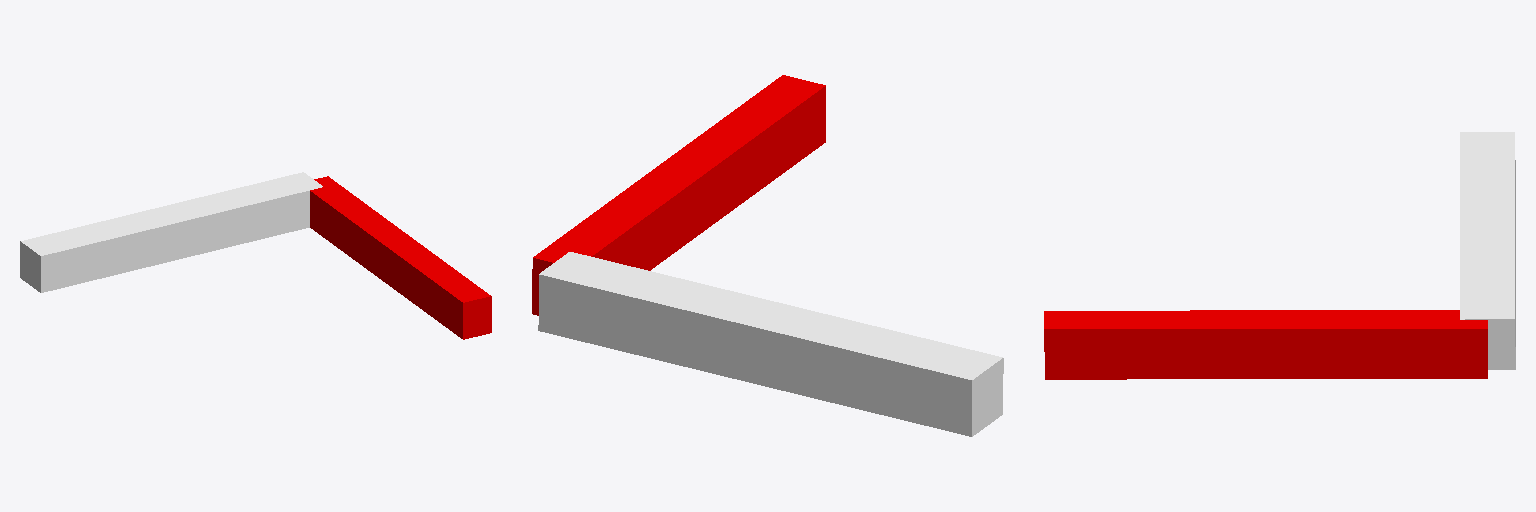
URDF robot description (L_shaped_tool):
<?xml version="1.0" ?>
<robot name="L_shaped_tool">

  <!-- Root link -->
  <link name="moving_link">
    <inertial>
      <mass value="0.276" />
      <origin xyz="0 0 0" rpy="0 0 0"/>
      <inertia ixx="0.0004" ixy="0.0" ixz="0.0" iyy="0.0004" iyz="0.0" izz="0.0004" />
    </inertial>
    <visual>
      <origin rpy="0 0 0" xyz="0 0 0" />
      <geometry><mesh filename="distal102.obj" scale="1 1 1" /></geometry>
      <material name="grey"><color rgba="0.7 0.7 0.7 1"/></material>
    </visual>
    <collision>
      <origin rpy="0 0 0" xyz="0 0 0" />
      <geometry><mesh filename="distal1022_vhacd.obj" scale="1 1 1" /></geometry>
    </collision>
  </link>

  <joint name="ankle_mount_joint" type="fixed">
    <parent link="moving_link"/>
    <child link="pin_link"/>
    <origin xyz="0 0.08 0.03" rpy="-1.57 0 0"/>
  </joint>

  <link name="pin_link">
    <inertial>
      <origin xyz="0 0 -0.04" rpy="0 0 0"/>
      <mass value="0.01"/> <inertia ixx="0.0001" ixy="0" ixz="0" iyy="0.0001" iyz="0" izz="0.0001"/>
    </inertial>
    <visual>
      <origin xyz="0 0 -0.04" rpy="0 0 0"/>
      <geometry><box size="0.008 0.01 0.08"/></geometry>
      <material name="red"><color rgba="1 0 0 1"/></material>
    </visual>
    <collision>
      <origin xyz="0 0 -0.04" rpy="0 0 0"/>
      <geometry><box size="0.008 0.01 0.08"/></geometry>
    </collision>
  </link>

  <joint name="load_cell_joint" type="fixed">
    <parent link="pin_link"/>
    <child link="base_link"/>
    <origin xyz="0 0 0" rpy="0 0 0"/>
  </joint>

  <link name="base_link">
    <inertial>
      <origin xyz="-0.04 0 0" rpy="0 0 1.57"/>
      <mass value="0.01"/> <inertia ixx="0.0001" ixy="0" ixz="0" iyy="0.0001" iyz="0" izz="0.0001"/>
    </inertial>
    <visual>
      <origin xyz="-0.04 -0.0 0" rpy="0 0 1.57"/>
      <geometry><box size="0.01 0.08 0.01"/></geometry>
      <material name="white"><color rgba="1 1 1 1"/></material>
    </visual>
    <collision>
      <origin xyz="-0.04 0 0" rpy="0 0 1.57"/>
      <geometry><box size="0.01 0.08 0.01"/></geometry>
    </collision>
  </link>

</robot>

--- Render facts (derived) ---
The picture shows the robot from 3 angles, left to right: view 1: azimuth 30°, elevation 25°; view 2: azimuth 150°, elevation 25°; view 3: azimuth 270°, elevation 25°; orthographic projection.
Model L_shaped_tool with 3 links and 2 joints (2 fixed), rooted at moving_link, posed every joint at zero.
Links seen in each view (by area): view 1: base_link, pin_link; view 2: base_link, pin_link; view 3: pin_link, base_link.
Link boxes in pixels (bbox=[...]): base_link: bbox=[20, 172, 322, 292]; pin_link: bbox=[310, 176, 491, 339]; base_link: bbox=[538, 252, 1003, 436]; pin_link: bbox=[532, 75, 825, 315]; pin_link: bbox=[1044, 310, 1487, 379]; base_link: bbox=[1460, 132, 1515, 369].
Bounding box of the posed robot: 0.084 × 0.085 × 0.0101 m (x, y, z).
0 mesh visuals loaded from 1 distinct referenced files (none loaded); not drawn: 1 (reference not matched to a file when rendering).
